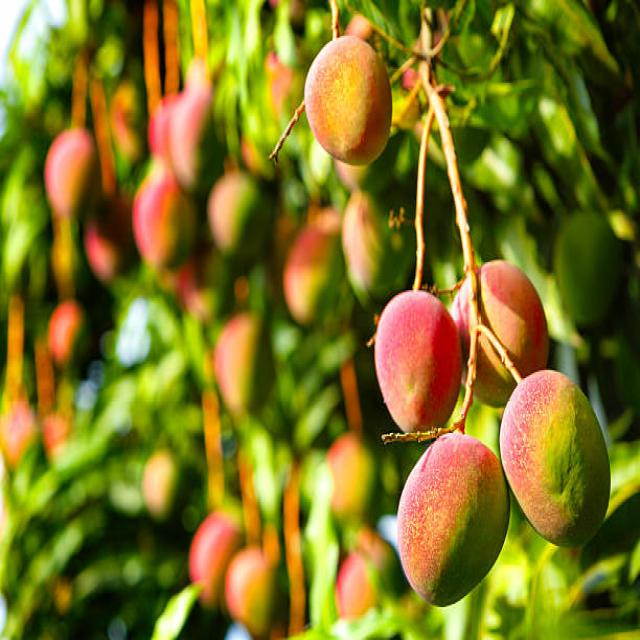mango: (398, 431, 510, 605), (500, 371, 608, 547), (451, 261, 549, 407), (375, 291, 462, 432), (304, 39, 392, 165)
